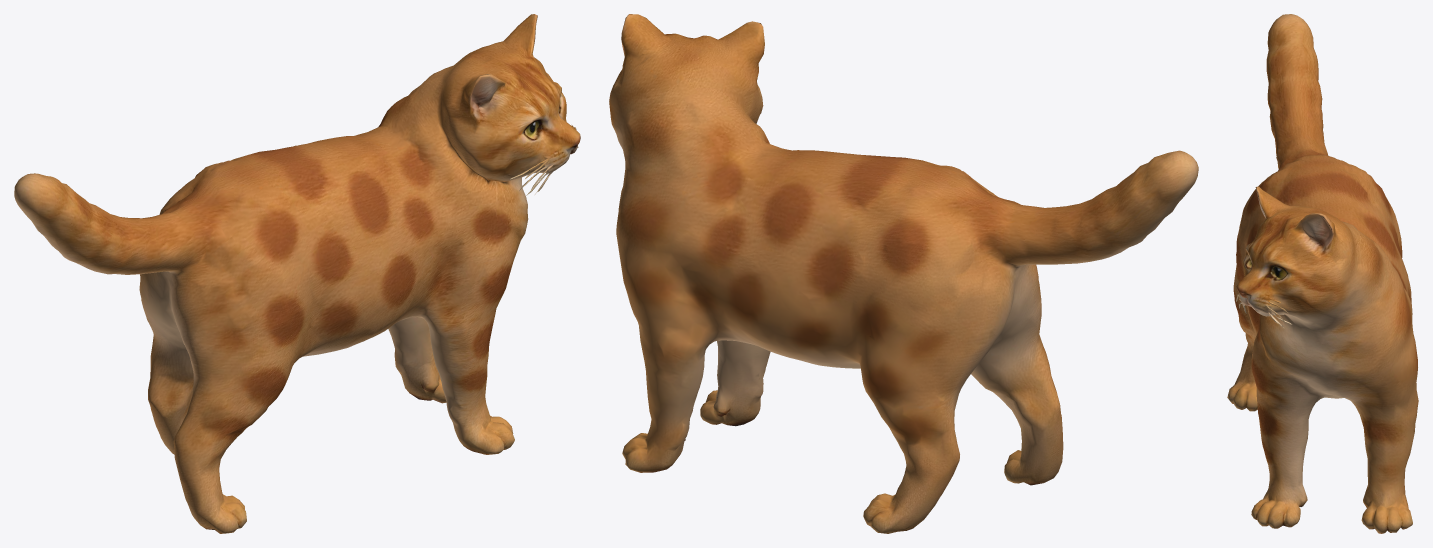
Rendered from KIOSKPAW.glb.
3 renders of one model, left to right at view 1: azimuth 30°, elevation 25°; view 2: azimuth 150°, elevation 25°; view 3: azimuth 270°, elevation 25°, orthographic. The views are drawn at different scales.
Parts seen in each view (by area): view 1: tripo_node_bd5ad442-934c-4900-9164-ed0400b5c3cf; view 2: tripo_node_bd5ad442-934c-4900-9164-ed0400b5c3cf; view 3: tripo_node_bd5ad442-934c-4900-9164-ed0400b5c3cf.
Part boxes in pixels (left/top/right/bottom): tripo_node_bd5ad442-934c-4900-9164-ed0400b5c3cf: left=14, top=14, right=580, bottom=533; tripo_node_bd5ad442-934c-4900-9164-ed0400b5c3cf: left=609, top=14, right=1198, bottom=533; tripo_node_bd5ad442-934c-4900-9164-ed0400b5c3cf: left=1227, top=14, right=1418, bottom=533.
Bounding box in the file's own units: 1.47 × 1 × 0.5108.
Materials: 1 (1 with a texture image).
